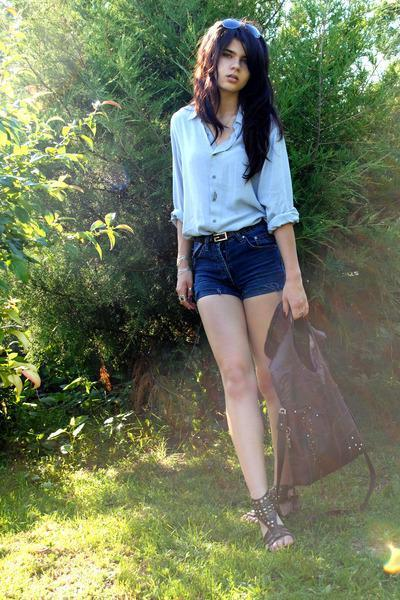Shorts: (184, 217, 285, 301)
jacket: (163, 92, 300, 230)
